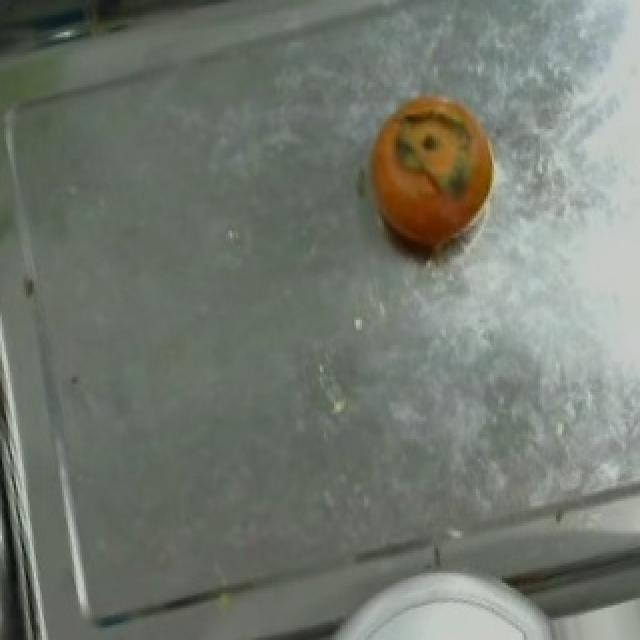Fruit: (344, 74, 520, 270), (332, 550, 572, 640)
